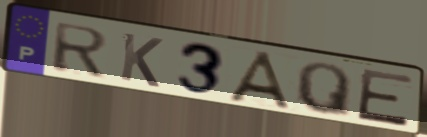3: (174, 41, 231, 99)
A: (224, 49, 297, 114)
E: (354, 67, 416, 129)
K: (117, 30, 166, 90)
Q: (294, 61, 352, 121)
R: (50, 20, 112, 79)
